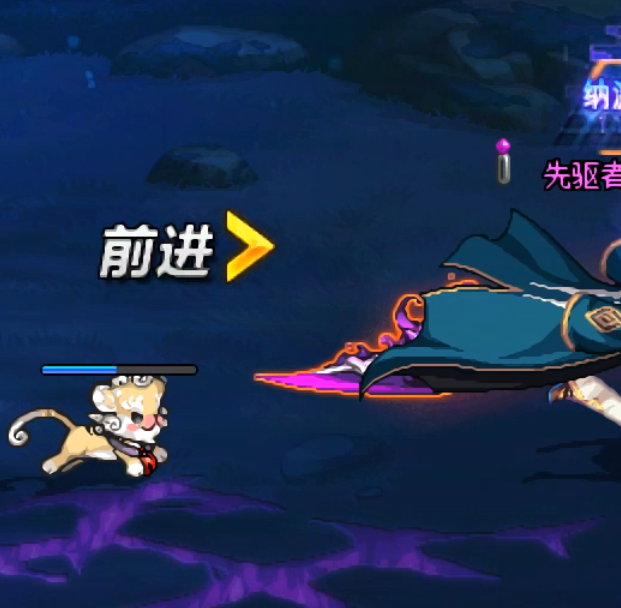forward: (92, 207, 277, 287)
